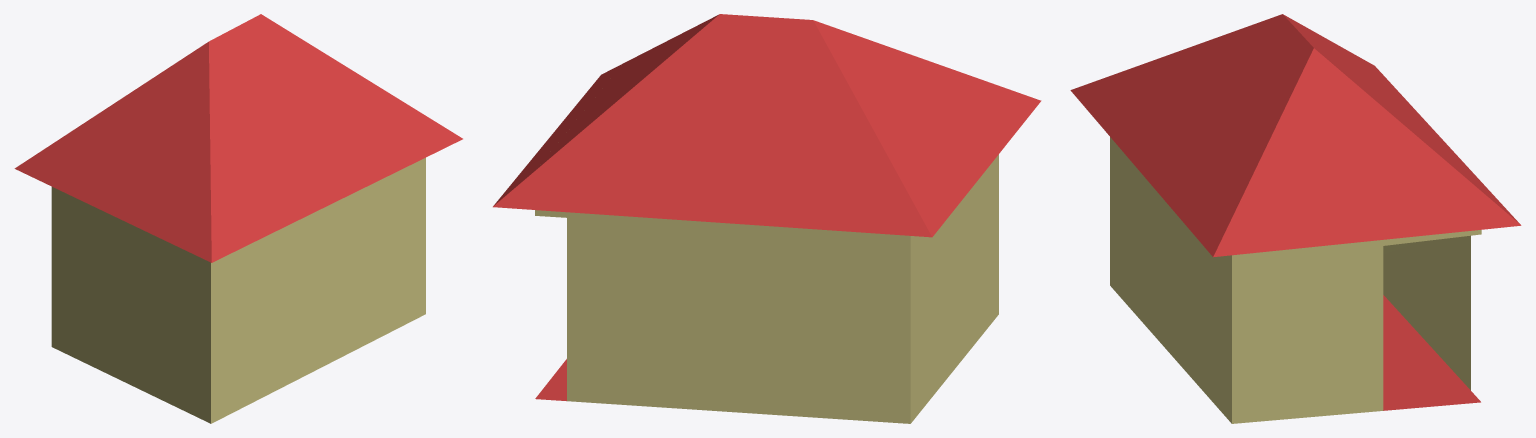
3 renders of one model, left to right at view 1: azimuth 30°, elevation 25°; view 2: azimuth 150°, elevation 25°; view 3: azimuth 270°, elevation 25°, orthographic. The views are drawn at different scales.
Bounding box in the file's own units: 15.07 × 15.32 × 11.7.
